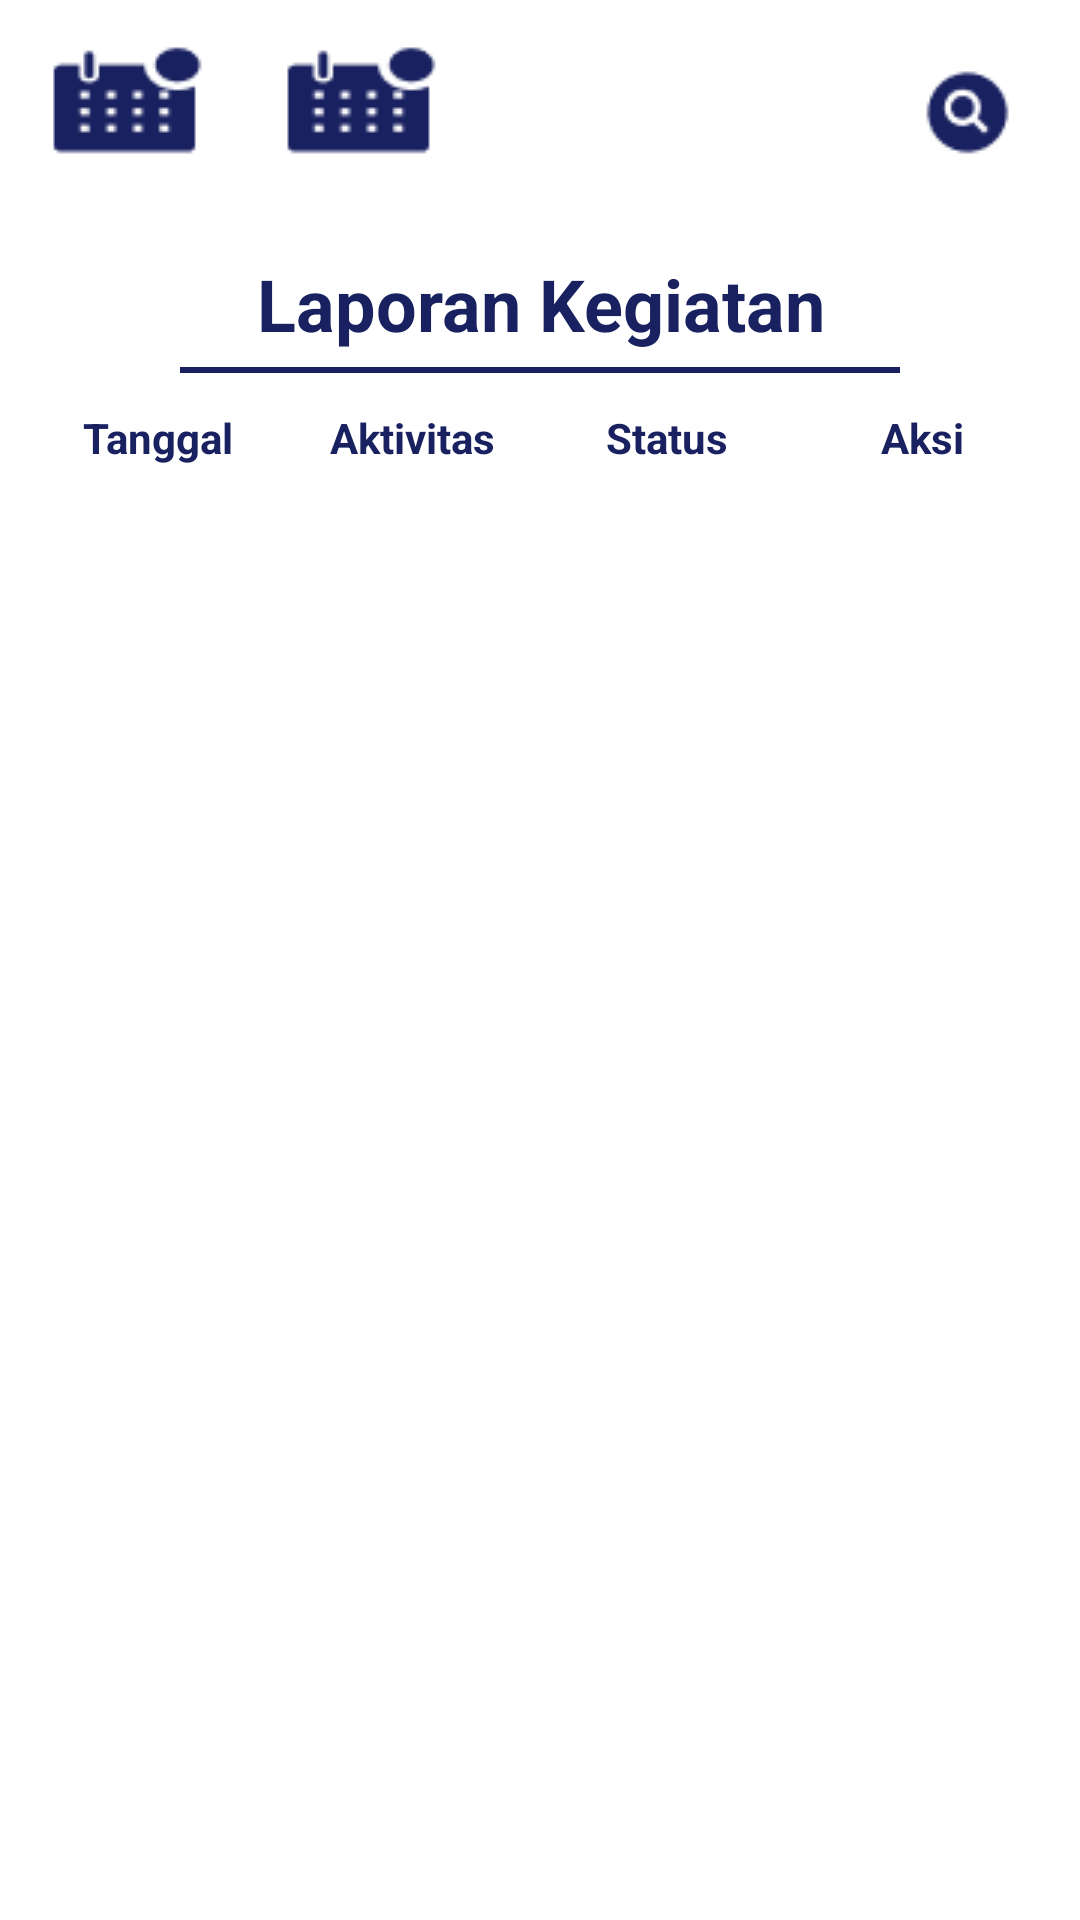

Icon click points for this 1080w x 1920h phone screenshot, format (x,y):
calender: (127,100), (361,100)
search: (967,112)
